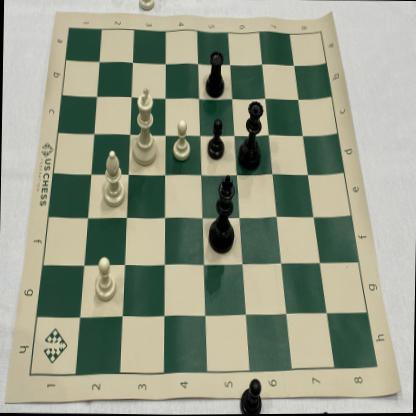black-king: (208, 171, 236, 257)
black-pawn: (206, 118, 226, 161)
black-queen: (236, 95, 263, 171)
black-rook: (202, 47, 226, 101)
white-bishop: (99, 149, 126, 209)
white-king: (130, 85, 160, 168)
white-pawn: (92, 254, 118, 304), (170, 117, 192, 163)
